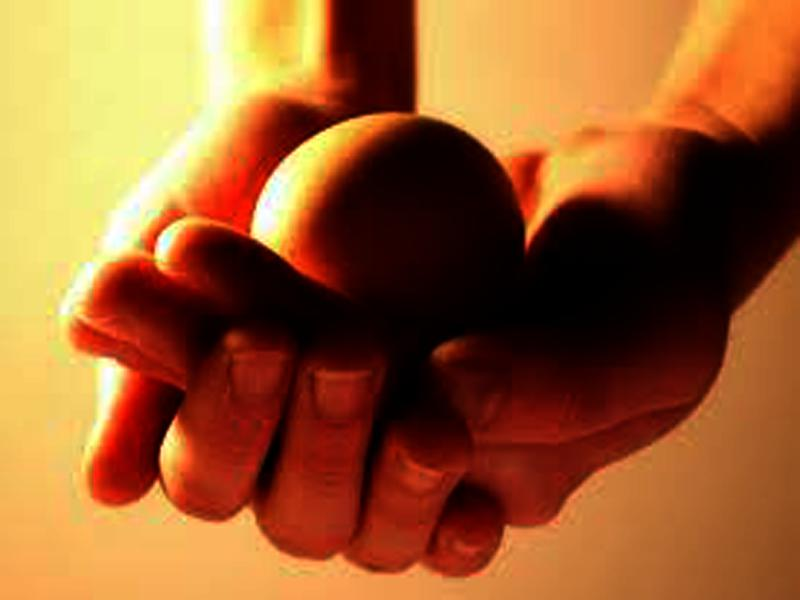Eggs: (250, 111, 527, 321)
